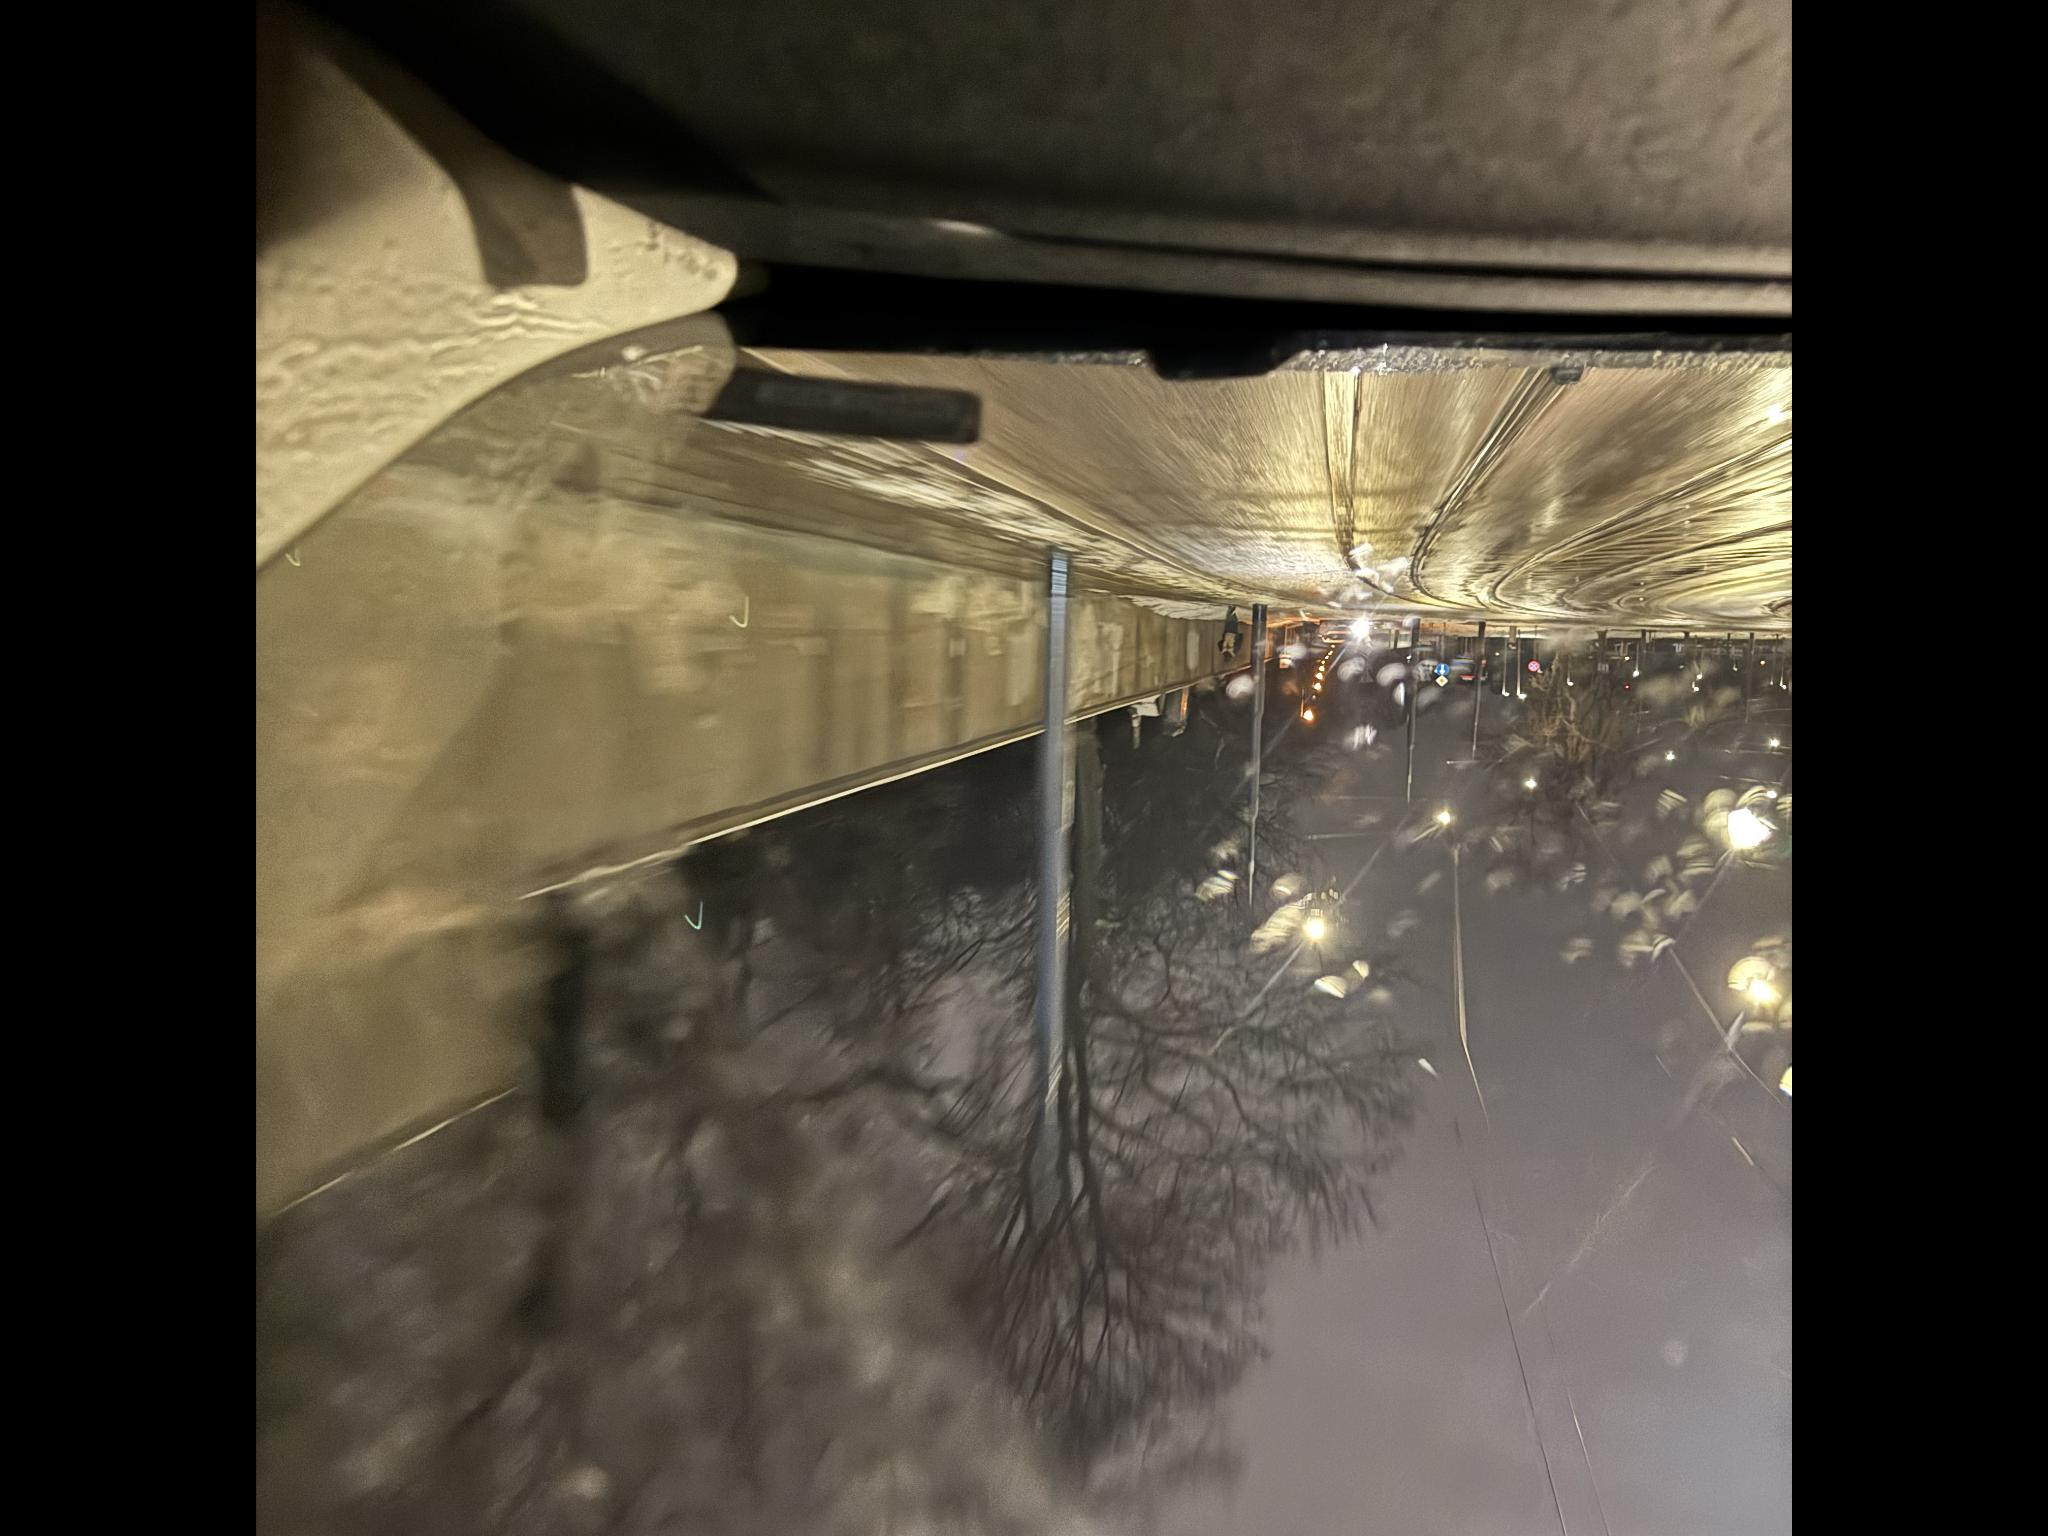information: (1363, 1436, 1374, 1447)
mandatory: (1374, 1438, 1385, 1449)
prohibitory: (1377, 1528, 1388, 1536)
